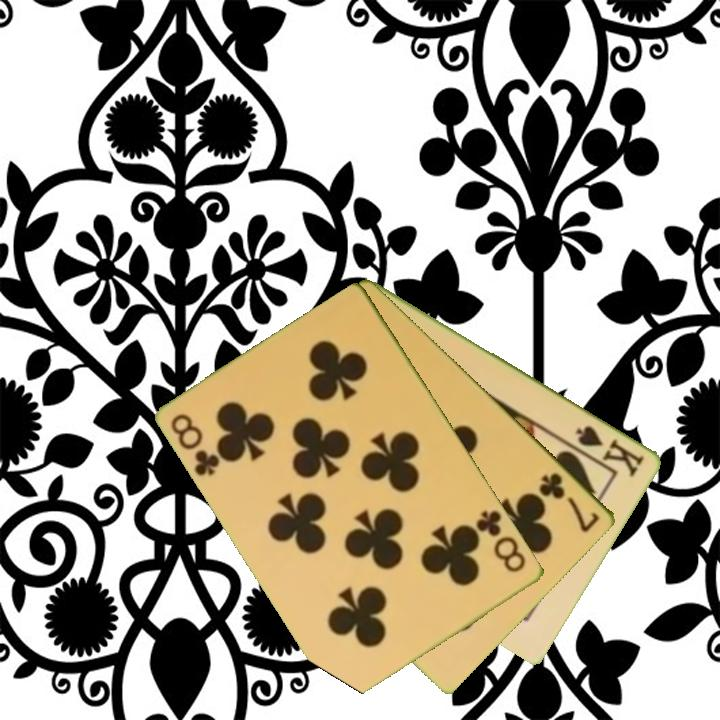7c: (535, 469, 603, 536)
8c: (472, 506, 530, 576), (167, 410, 224, 480)
Ks: (573, 422, 648, 480)
